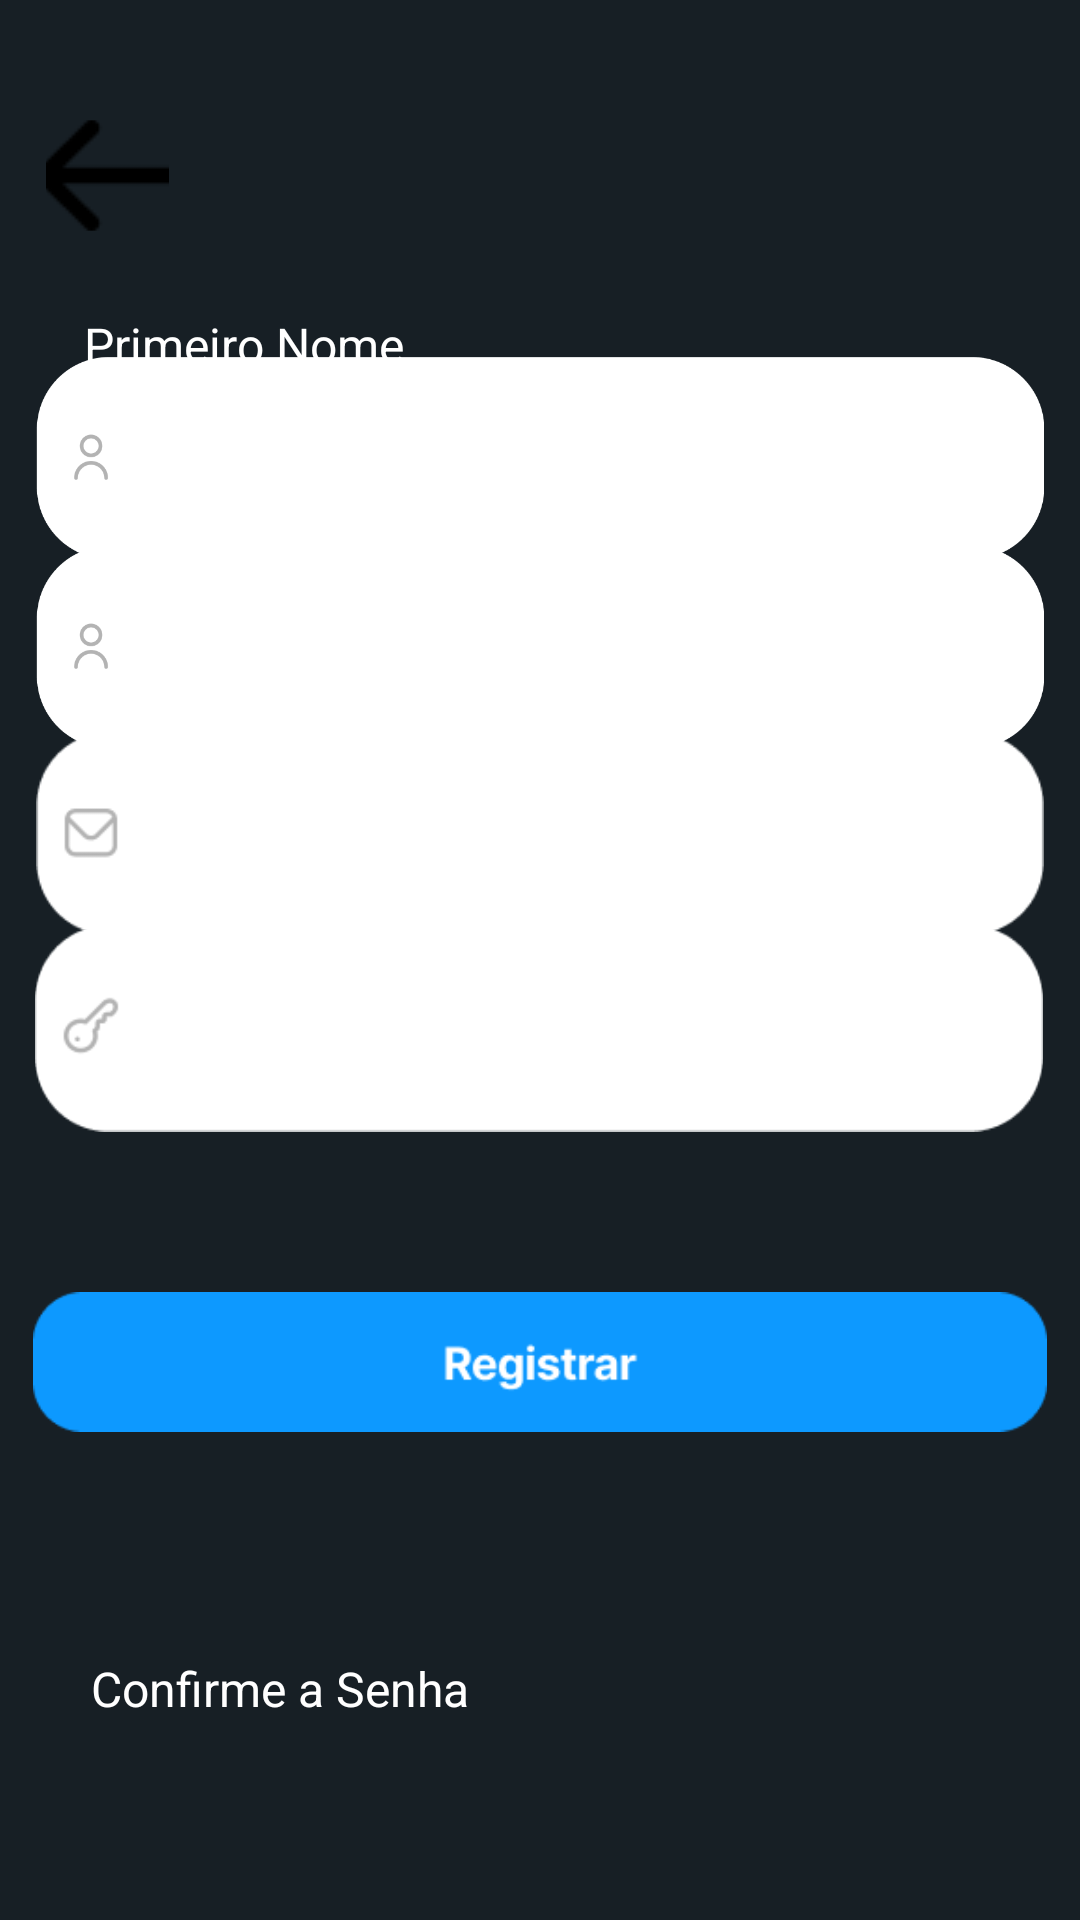

Icon click points for this 1080px x 1920px phone screenshot, format [x,y]:
voltar: [107,175]
